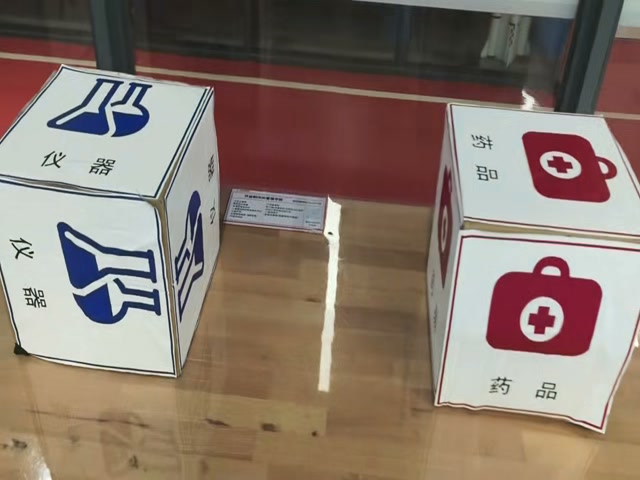Cube_ins: (1, 62, 216, 203)
Cube_medicine: (442, 108, 640, 247)
